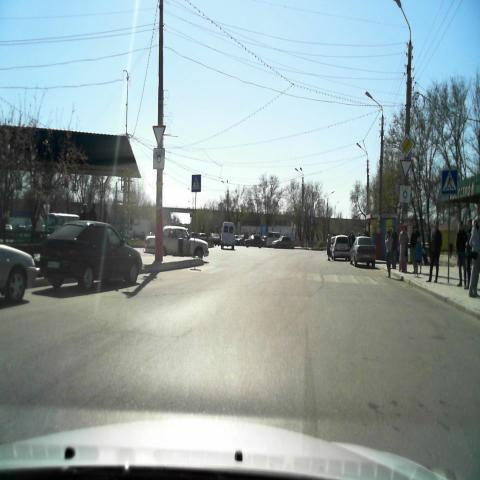8_13_1: (152, 148, 166, 170), (398, 184, 410, 204)
